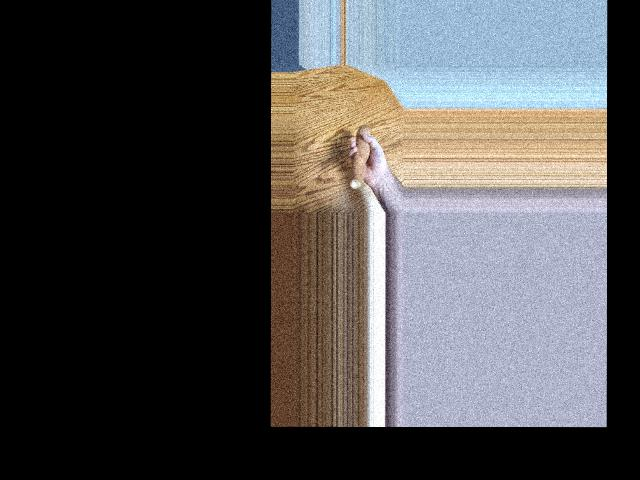sweet_potato: (351, 120, 373, 190)
